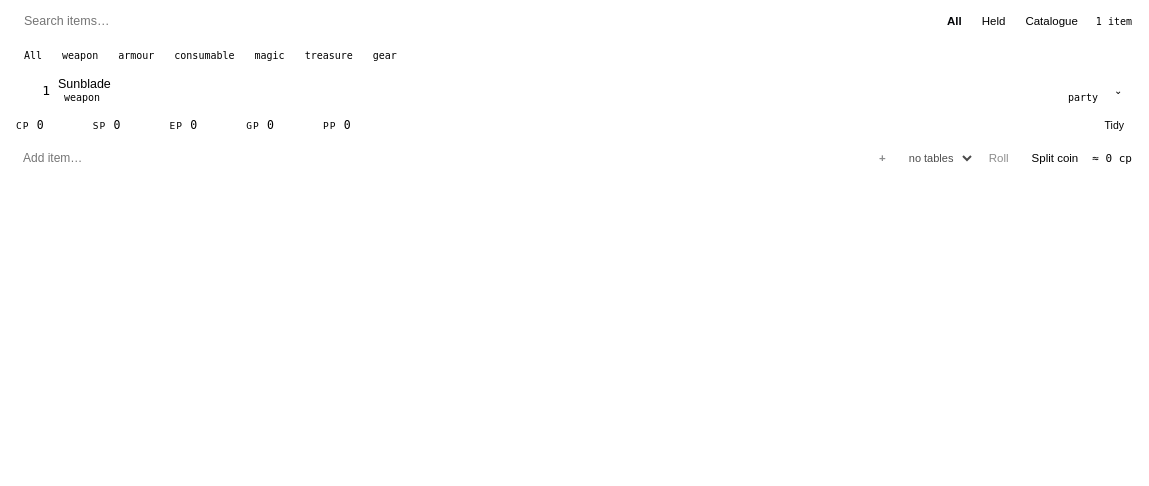
Test: Items ledger › keeps a row collapsed until it is clicked
The image size is (1149, 486).
Click the text "Sunblade": point(84, 84) [58, 77, 111, 91]
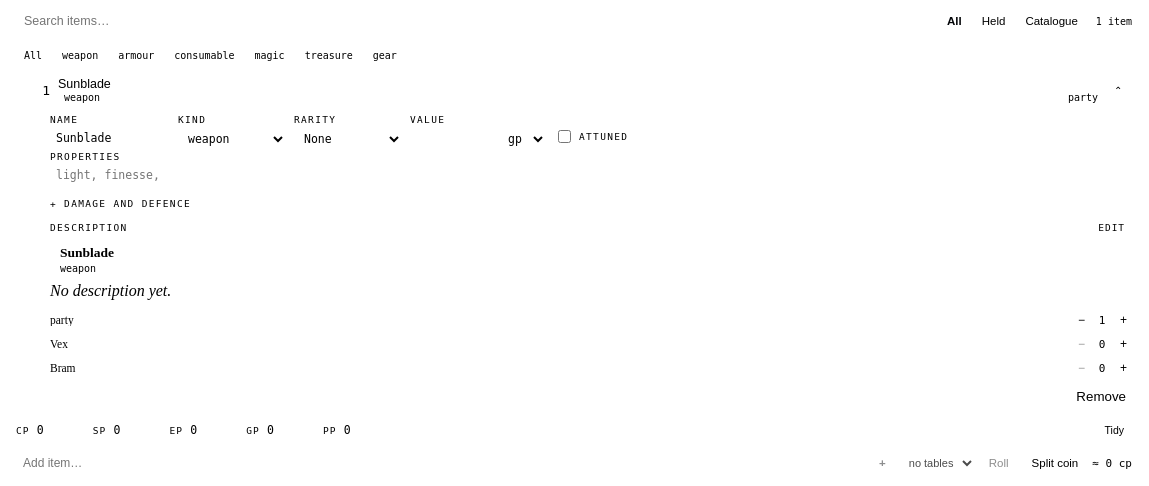
expect the button named "Add one to Vex" is shown: met, box [1114, 335, 1132, 353]
